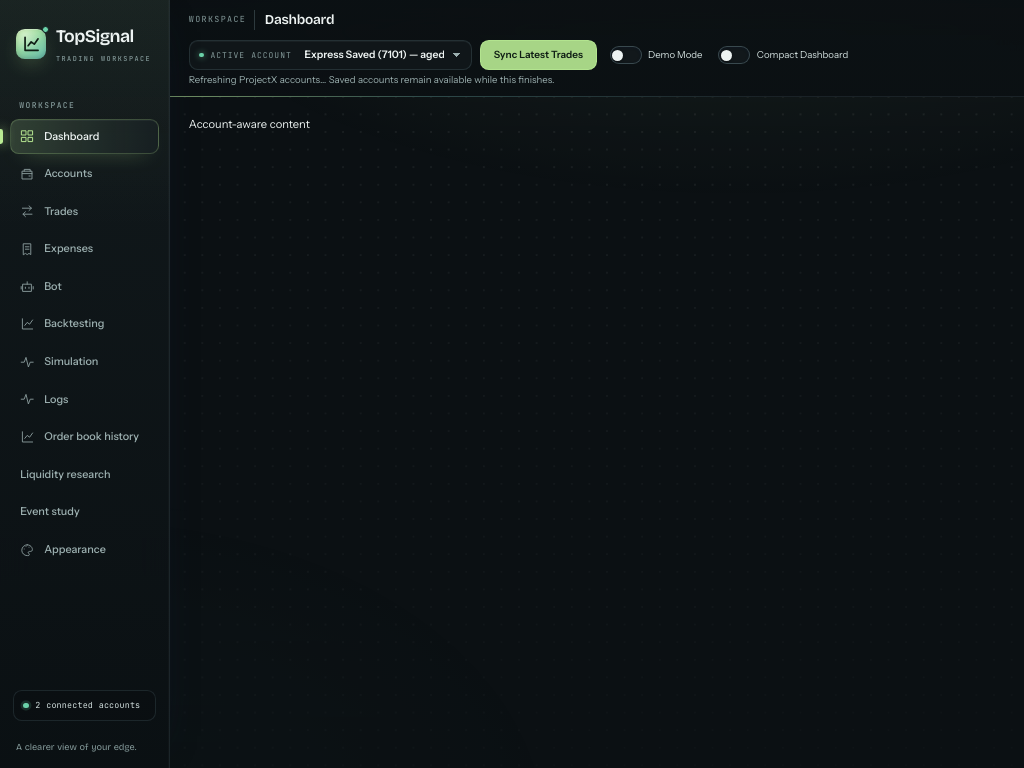
Test: AppShell account lifecycle reconciliation › replaces the local-first dropdown after provider success while preserving a Live CSV selection
Check: the message shows "Refreshing ProjectX accounts", box [189,74,554,85]
Select "Live Selected — Live CSV" in the dropdown labelled "Active Account" at (383, 55), box [295,41,471,69]
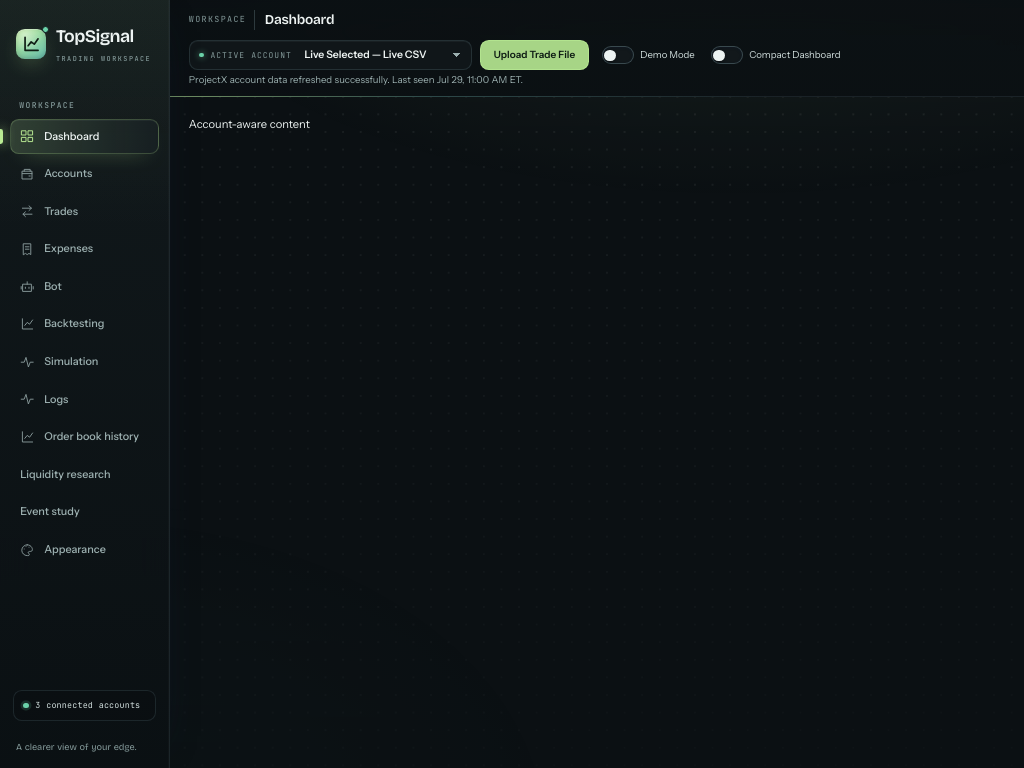
Check: the option "Express Saved" is not shown
Check: the text "ProjectX account data refreshed successfully. Last seen Jul 29, 11:00 AM ET." is shown, box [189,74,523,85]
